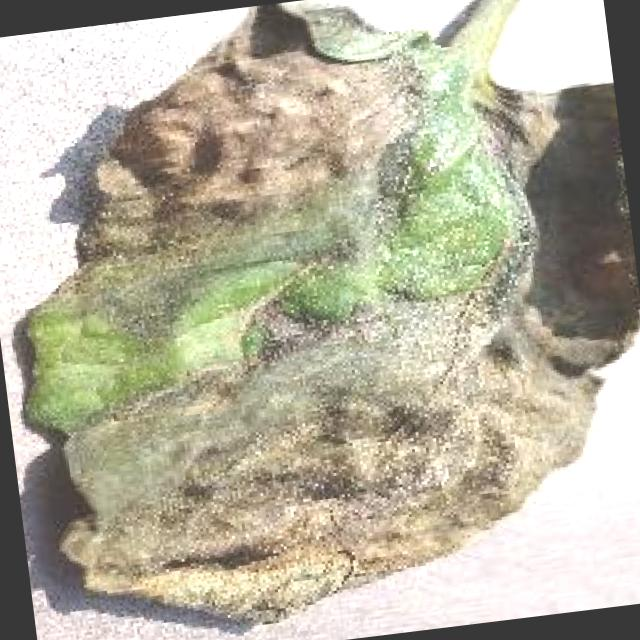leaf blight: (25, 0, 640, 623)
